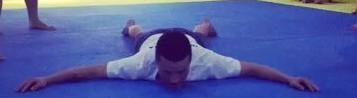Fall-Detected: (14, 11, 333, 93)
